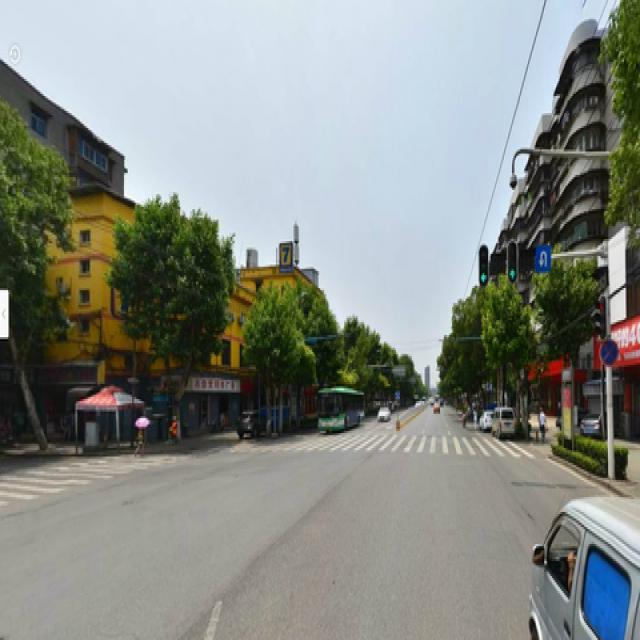meta: (127, 198, 213, 429)
